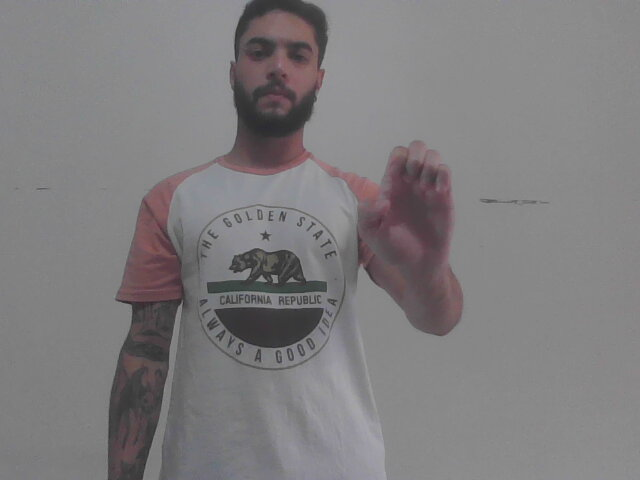e: (358, 134, 460, 280)
